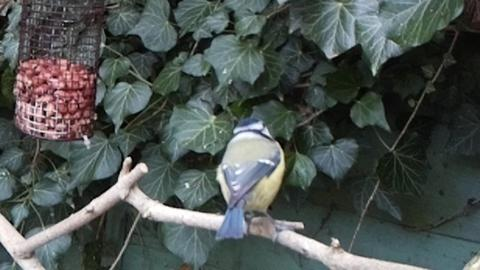blue tit: (214, 117, 286, 240)
